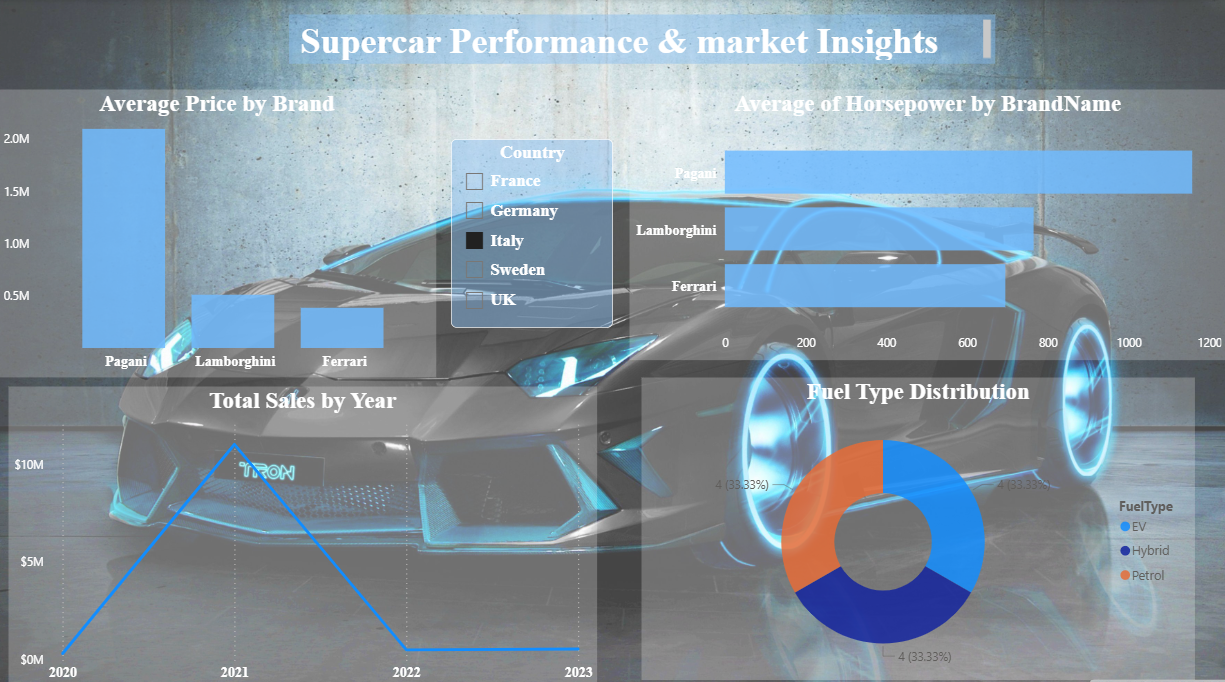

The page's visual inventory and layout, read from the dashboard file:
{"tool":"powerbi","page":{"name":" Performance Analysis","canvas":[1280,720],"ordinal":1},"visuals":[{"type":"textbox","box":[288.3,16.7,735,51.7],"z":0},{"type":"clusteredColumnChart","title":"Average Price by Brand","fields":{"Category":["Dim_Brands.BrandName"],"Y":["Avg(supercars_performances (2).Price_USD)"]},"box":[0,95,456.7,300],"z":1000},{"type":"clusteredBarChart","fields":{"Category":["Dim_Brands.BrandName"],"Y":["Avg(supercars_performances (2).Horsepower)"]},"box":[658.3,95,621.7,281.7],"z":2000},{"type":"lineChart","fields":{"Y":["Dim_Brands.Total Sales"],"Category":["supercars_performances (2).Year"]},"box":[11.7,405,613.3,315],"z":3000},{"type":"donutChart","title":"Fuel Type Distribution","fields":{"Category":["Dim_Engines.FuelType"],"Y":["CountNonNull(Dim_cars.CarID)"]},"box":[670,395,576.7,315],"z":4000},{"type":"slicer","title":"Country","fields":{"Values":["Dim_Brands.Country"]},"box":[471.7,146.7,168.3,196.7],"z":5000}]}

Visuals, with their boxes in screenshot pixels (x1, y1, x2, y2), scaled from the page's 1280x720 canvas onto the 1225x682 screenshot:
textbox: bbox=(276, 16, 979, 65)
"Average Price by Brand" clusteredColumnChart: bbox=(0, 90, 437, 374)
clusteredBarChart - Dim_Brands.BrandName x Avg(supercars_performances (2).Horsepower): bbox=(630, 90, 1224, 357)
lineChart - Dim_Brands.Total Sales x supercars_performances (2).Year: bbox=(11, 384, 598, 681)
"Fuel Type Distribution" donutChart: bbox=(641, 374, 1193, 673)
"Country" slicer: bbox=(451, 139, 612, 325)
